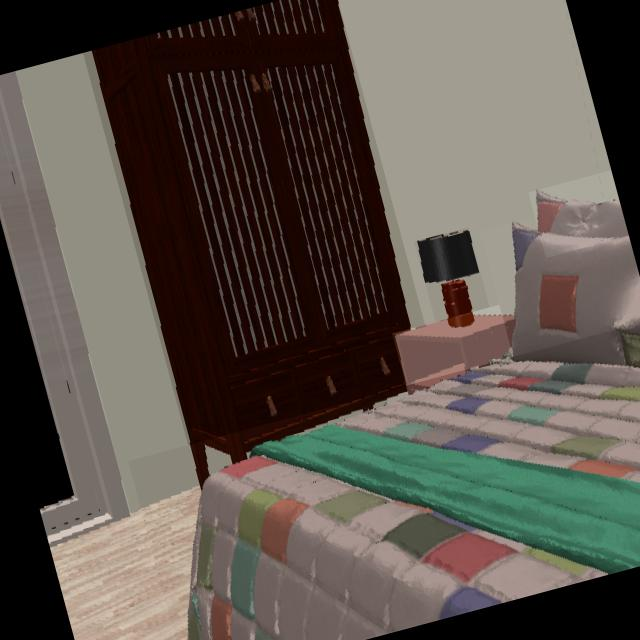bed: (186, 361, 640, 640)
lamp: (416, 231, 480, 327)
nighttable: (396, 316, 516, 393)
pillow: (511, 223, 640, 368), (536, 190, 629, 236)
wardrobe: (90, 0, 412, 490)
